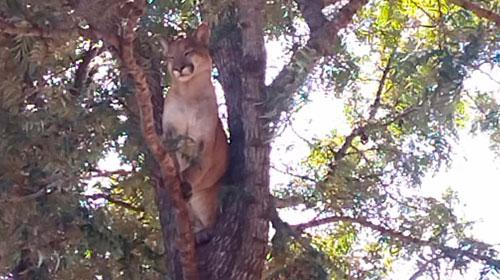OncaParda: (149, 24, 230, 244)
